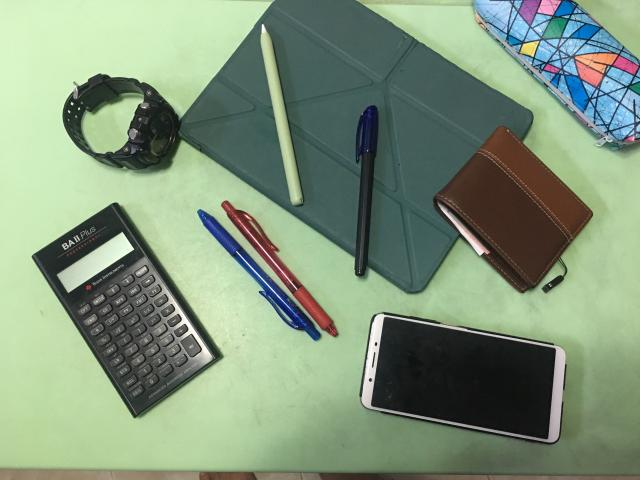Mobile phone: (360, 313, 567, 446)
Pen: (197, 203, 337, 341), (356, 106, 381, 280)
Wallet: (433, 127, 593, 295)
Watch: (62, 76, 181, 174)
